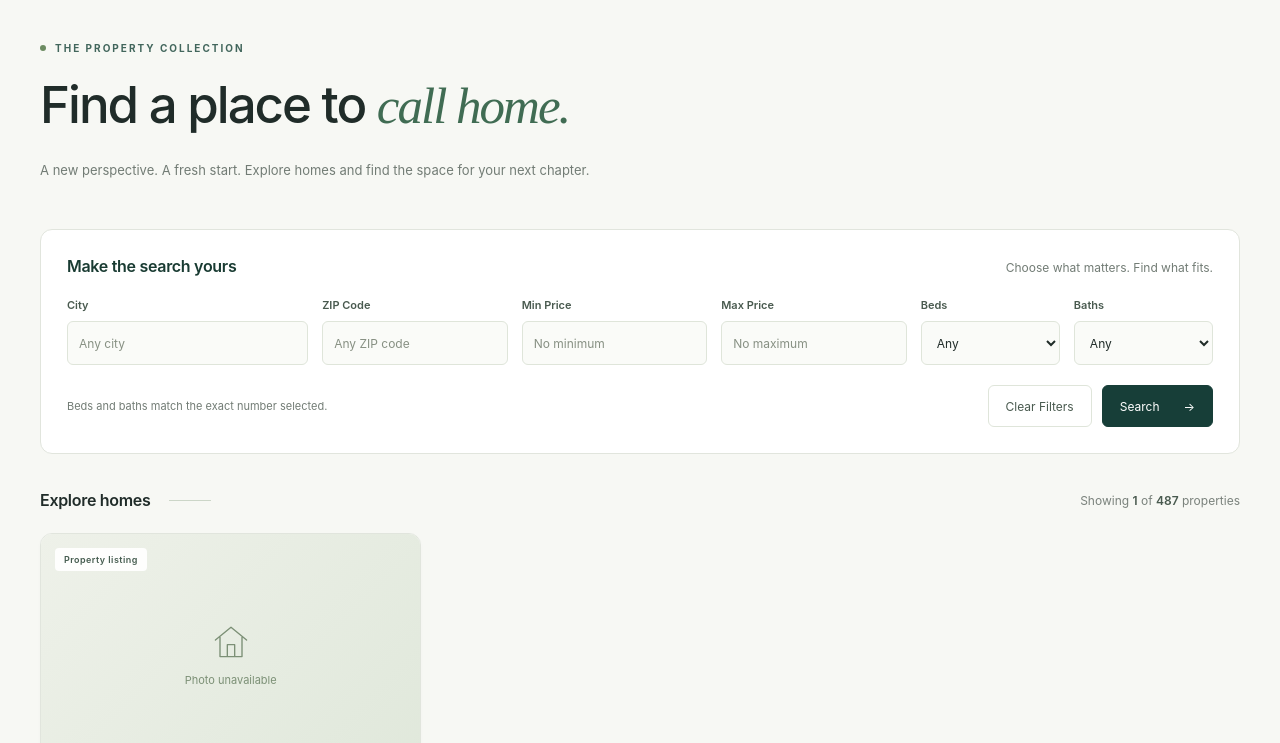
Test: retries the last submitted filters even after the user edits the draft
Type "Irvine" into the field labelled "City" at (188, 343), box [67,321,308,365]
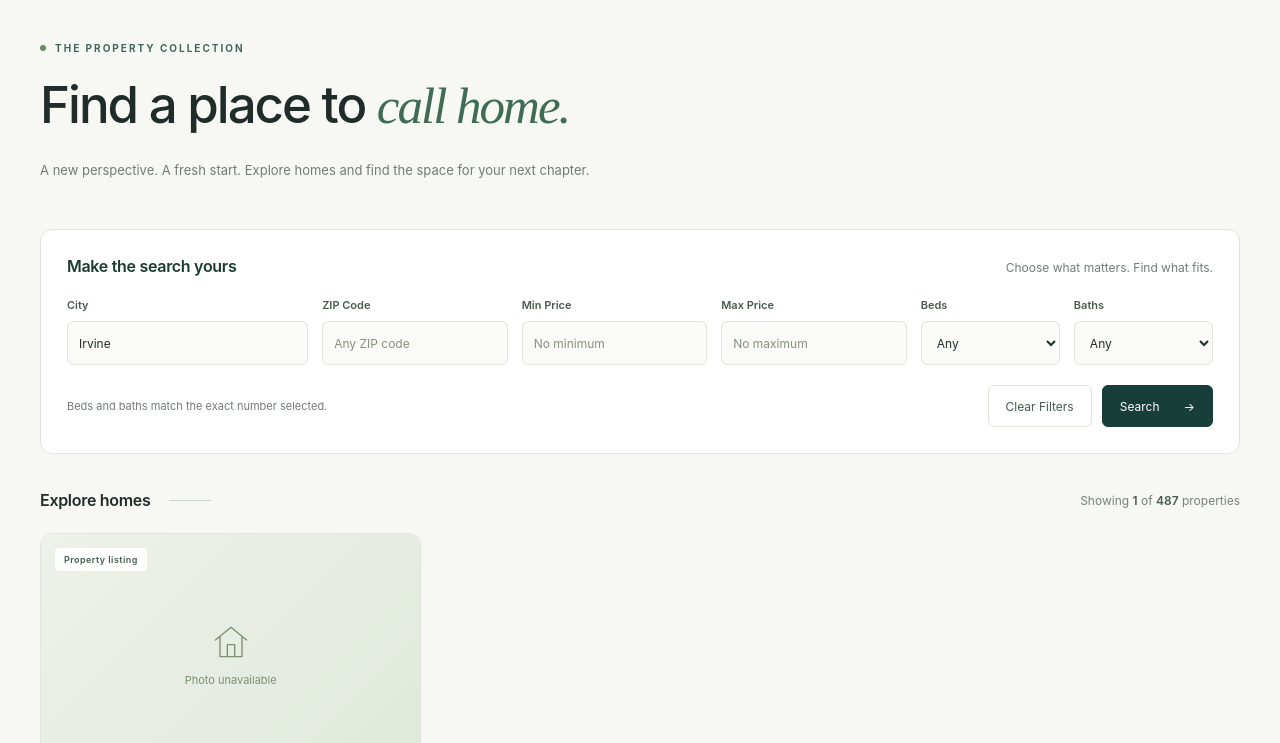
Click the button "Search →" at (1157, 406), box [1102,385,1213,427]
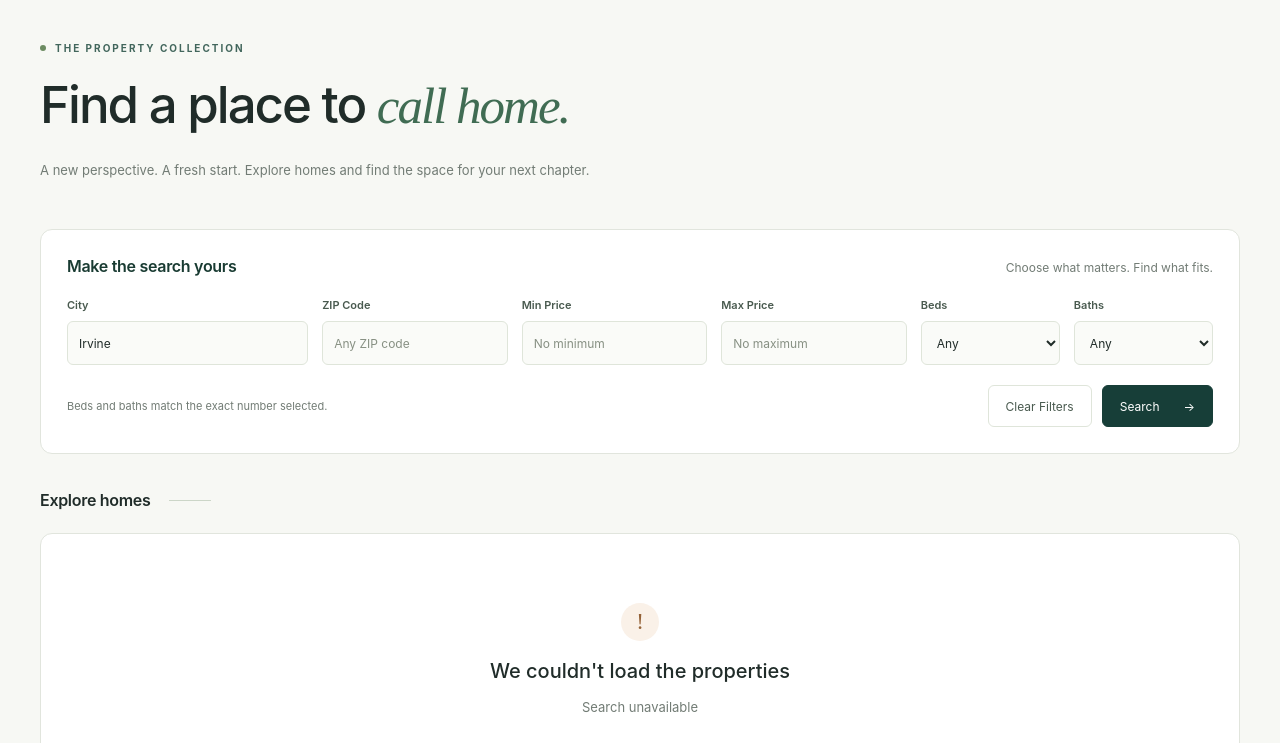
expect the message shows "Search unavailable": met, box [582,699,698,715]
Replace the text in the field labelled "City" with "Pasadena" at (188, 343), box [67,321,308,365]
(page scrolled)
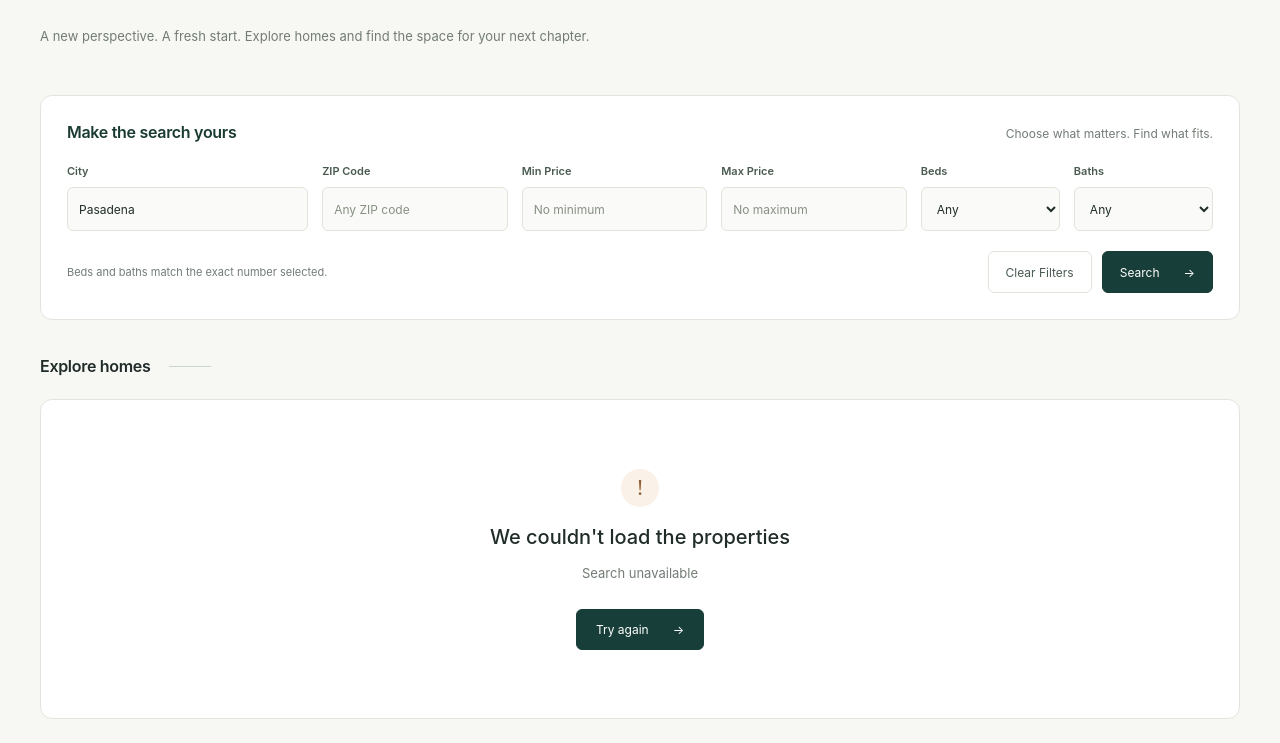
Click the button "Try again →" at (640, 629), box [576,608,704,650]
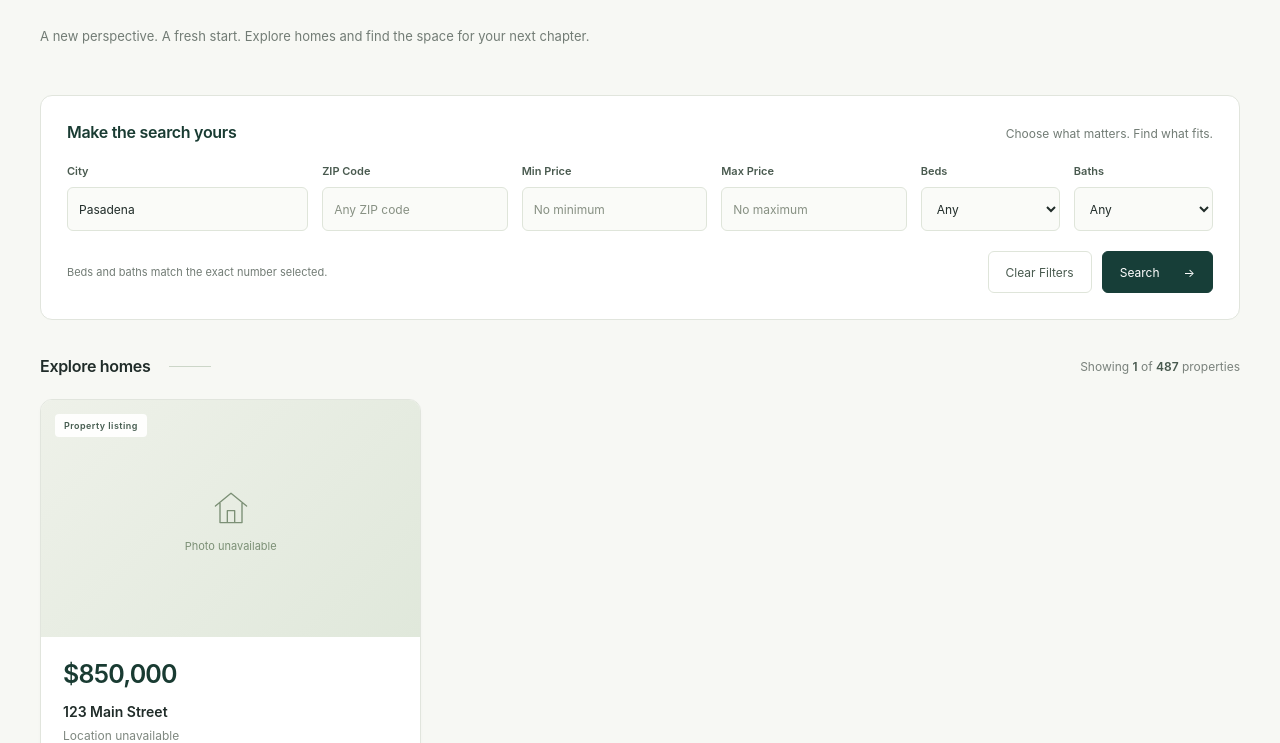
expect the heading "123 Main Street" is shown: met, box [63,703,168,720]
